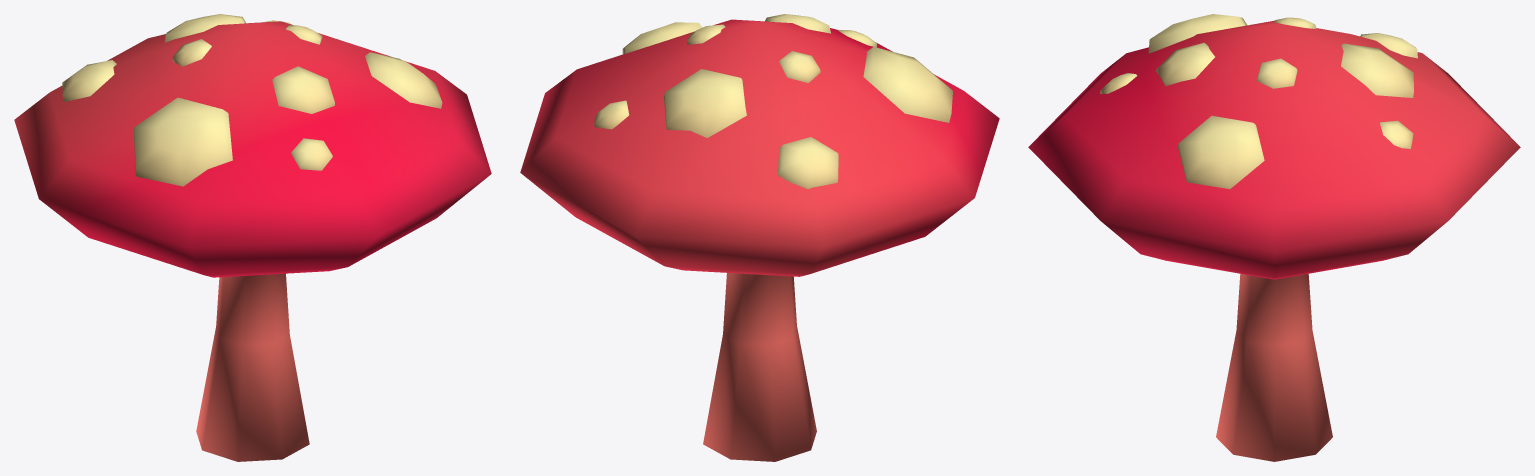
The model's file is mushroom_small_red.fbx.
3 views of the same model, side by side, from view 1: azimuth 30°, elevation 25°; view 2: azimuth 150°, elevation 25°; view 3: azimuth 270°, elevation 25° (orthographic).
Visible parts, largest first — view 1: mooshroom_red; view 2: mooshroom_red; view 3: mooshroom_red.
Part boxes in pixels (x1,y1,x2,y2): mooshroom_red: (14, 14, 491, 461); mooshroom_red: (520, 14, 999, 461); mooshroom_red: (1028, 14, 1520, 461).
Bounding box in the file's own units: 0.2156 × 0.1995 × 0.2156.
